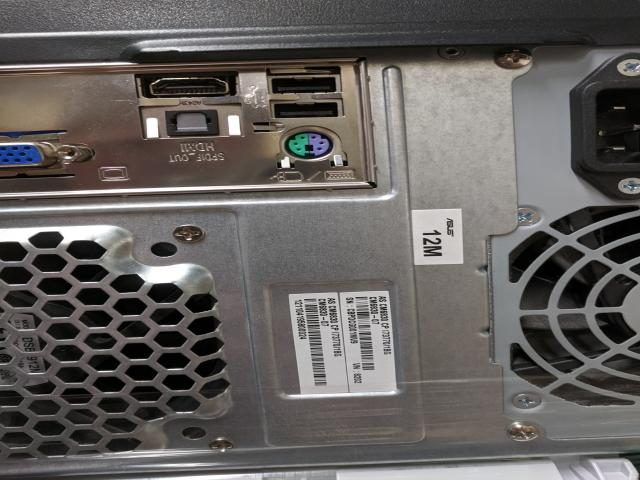CRS: (494, 46, 536, 71), (499, 420, 541, 442), (507, 204, 541, 230), (510, 390, 542, 412), (173, 224, 207, 243), (617, 56, 640, 79), (615, 177, 640, 197), (208, 438, 235, 451)
